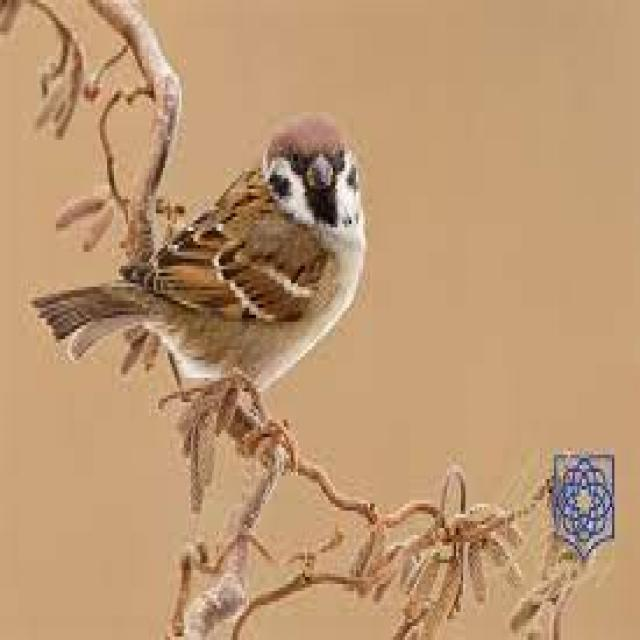bird: (25, 108, 371, 476)
